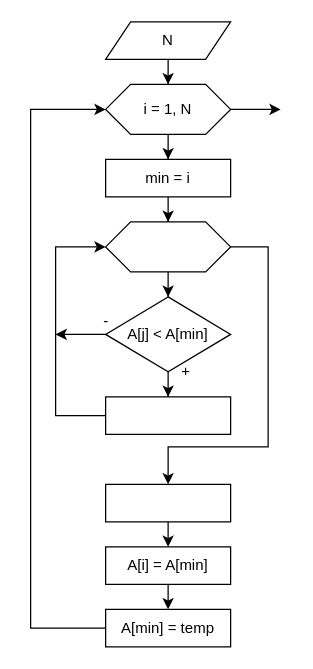
Some shapes in this 313 by 669 pixel diagram are drawn without their labels. Here are the shapes that lost their labels. From the top down, the centre of each, then its label:
At point 167,246: "j = i+1, N".
At point 167,415: "min = j".
At point 167,502: "temp = A[i]".
